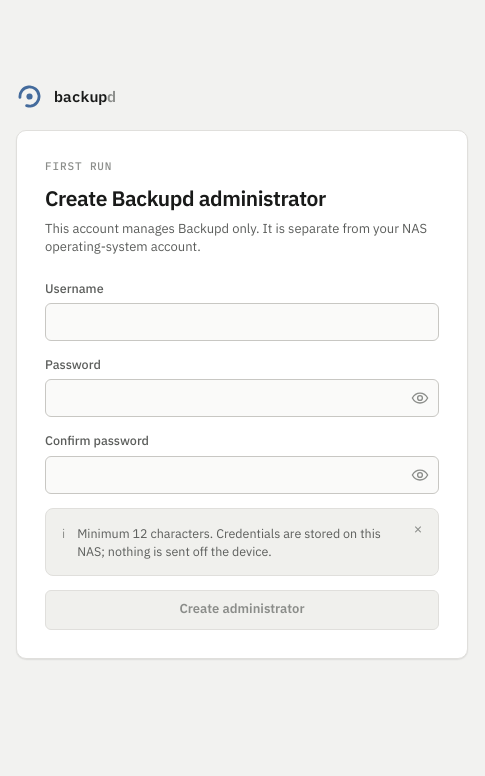
Test case: enrolment says why it refused › blames the lapsed link, not the credentials just typed
Type "bm-admin" into the field labelled "Username" at (242, 322), box [45,303,439,341]
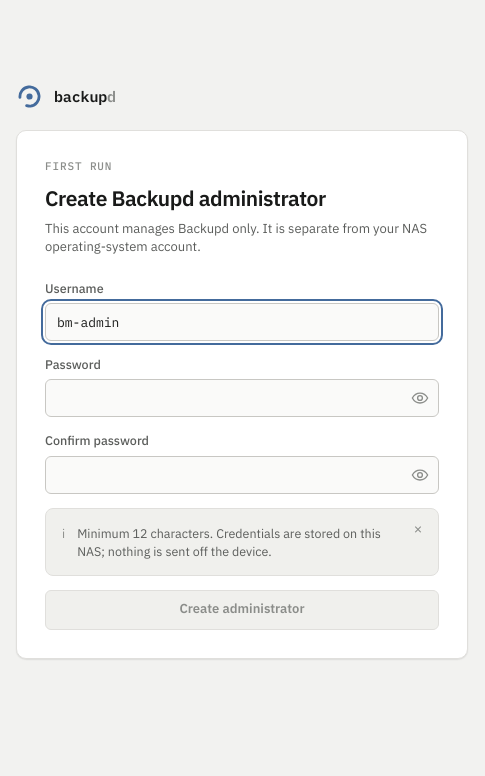
Type "a-long-enough-passphrase" into the password field labelled "Password" at (242, 398), box [45,380,439,418]
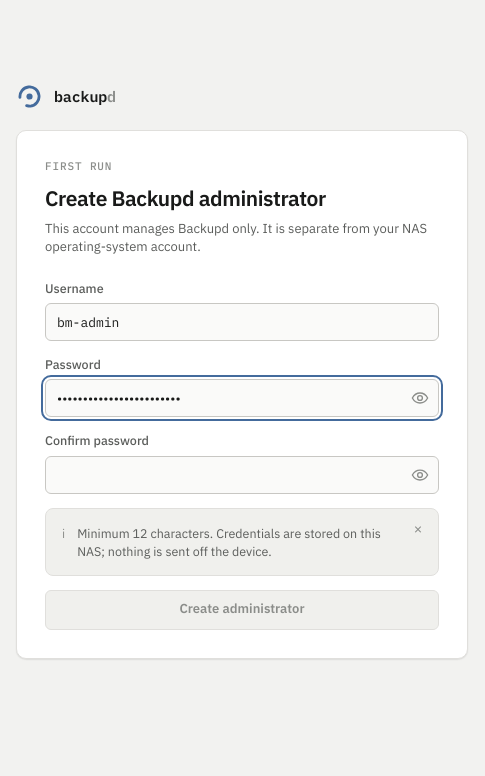
Type "a-long-enough-passphrase" into the password field labelled "Confirm password" at (242, 475), box [45,456,439,494]
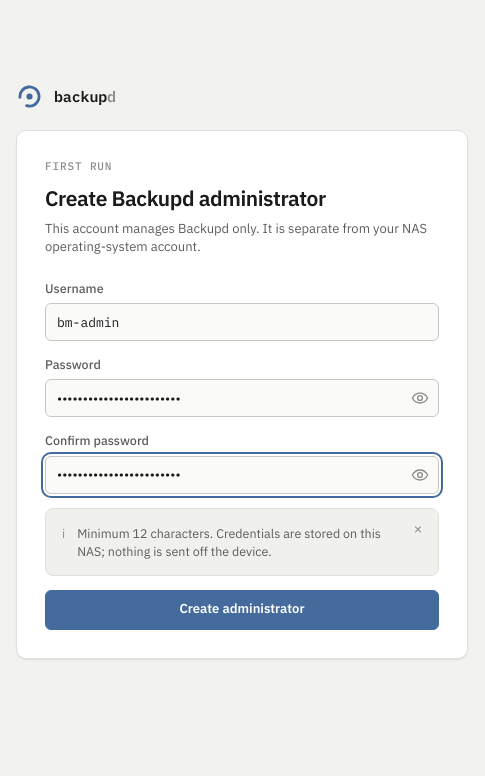
Click the button "Create administrator" at (242, 610), box [45,590,439,630]
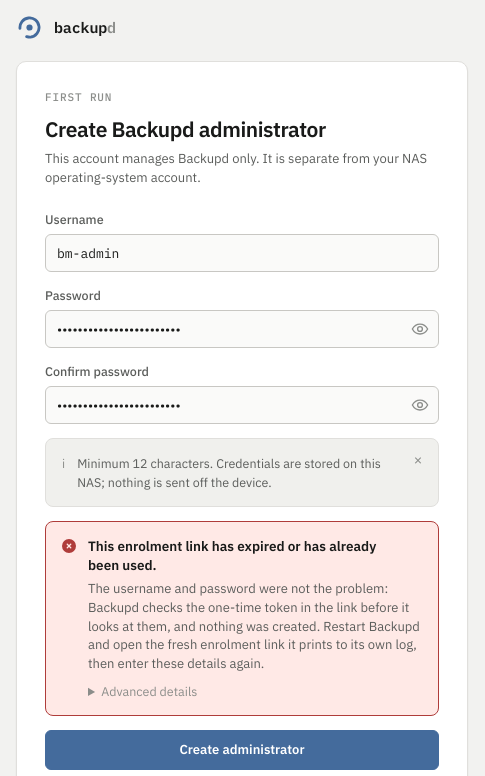
Expected: the text "This enrolment link has expired or has already been used." is shown, [88,537,422,576]
Expected: the text "were not the problem" is shown, [88,580,420,672]
